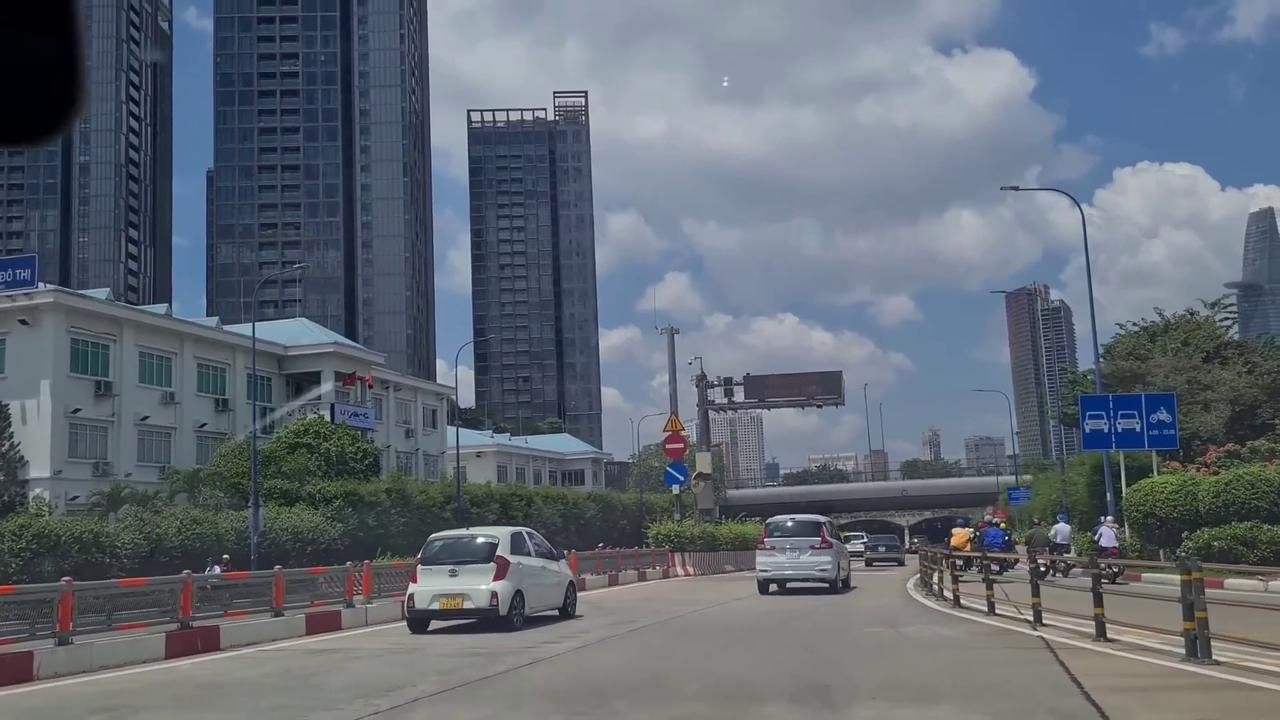Cấm đi ngược chiều: (663, 433, 687, 459)
Hướng phải đi vòng sang phải: (664, 460, 689, 488)
Làn đường cho từng xe: (1078, 391, 1180, 451)
Đuờng hẹp: (662, 411, 686, 432)
